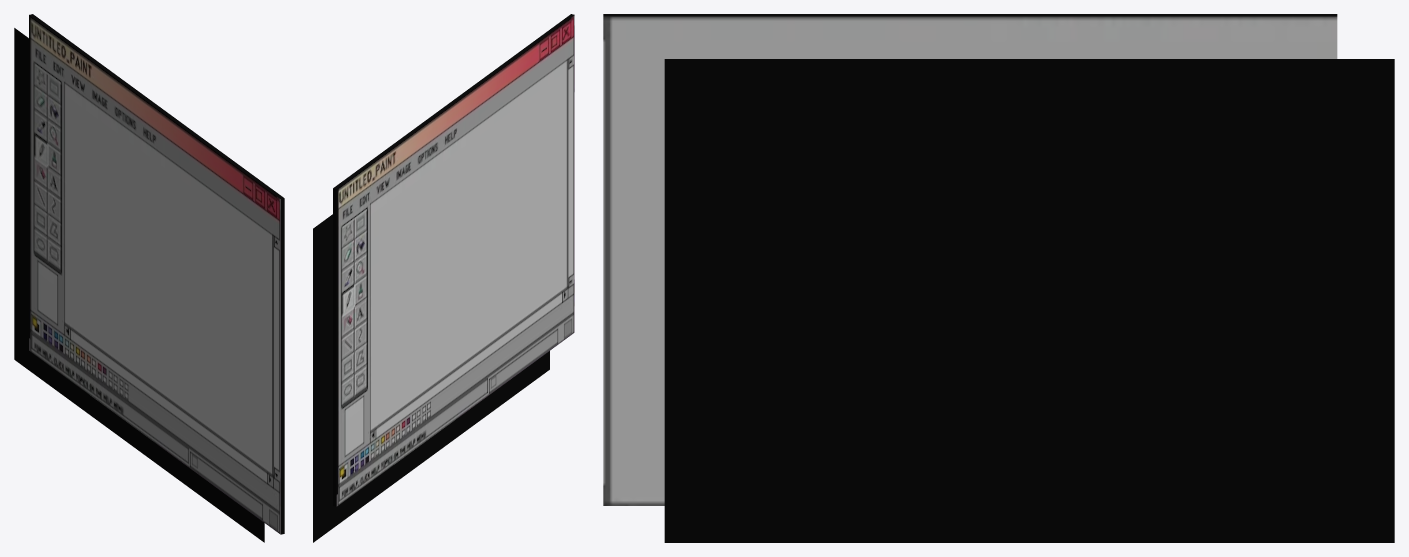
Rendered from pm-frame-program-retro-02.glb.
3 views of the same model, side by side, from view 1: azimuth 30°, elevation 25°; view 2: azimuth 150°, elevation 25°; view 3: azimuth 270°, elevation 25° (orthographic). The views are drawn at different scales.
Visible parts, largest first — view 1: Frame_Program_Retro_02; view 2: Frame_Program_Retro_02; view 3: Frame_Program_Retro_02.
Part boxes in pixels (x1,y1,x2,y2): Frame_Program_Retro_02: [14, 14, 284, 542]; Frame_Program_Retro_02: [313, 14, 574, 542]; Frame_Program_Retro_02: [603, 14, 1394, 542].
Size of the model in its own units: 0.0598 by 4.03 by 5.51.
Materials: 1 (1 with a texture image).
